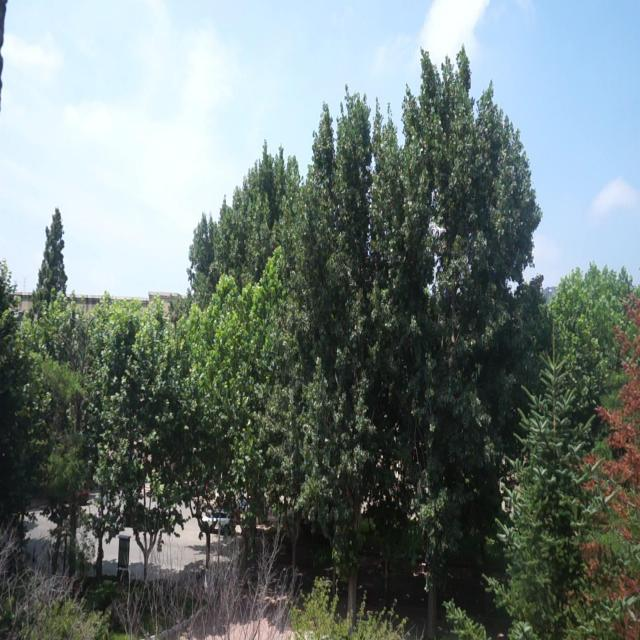UAV: (432, 225, 447, 236)
